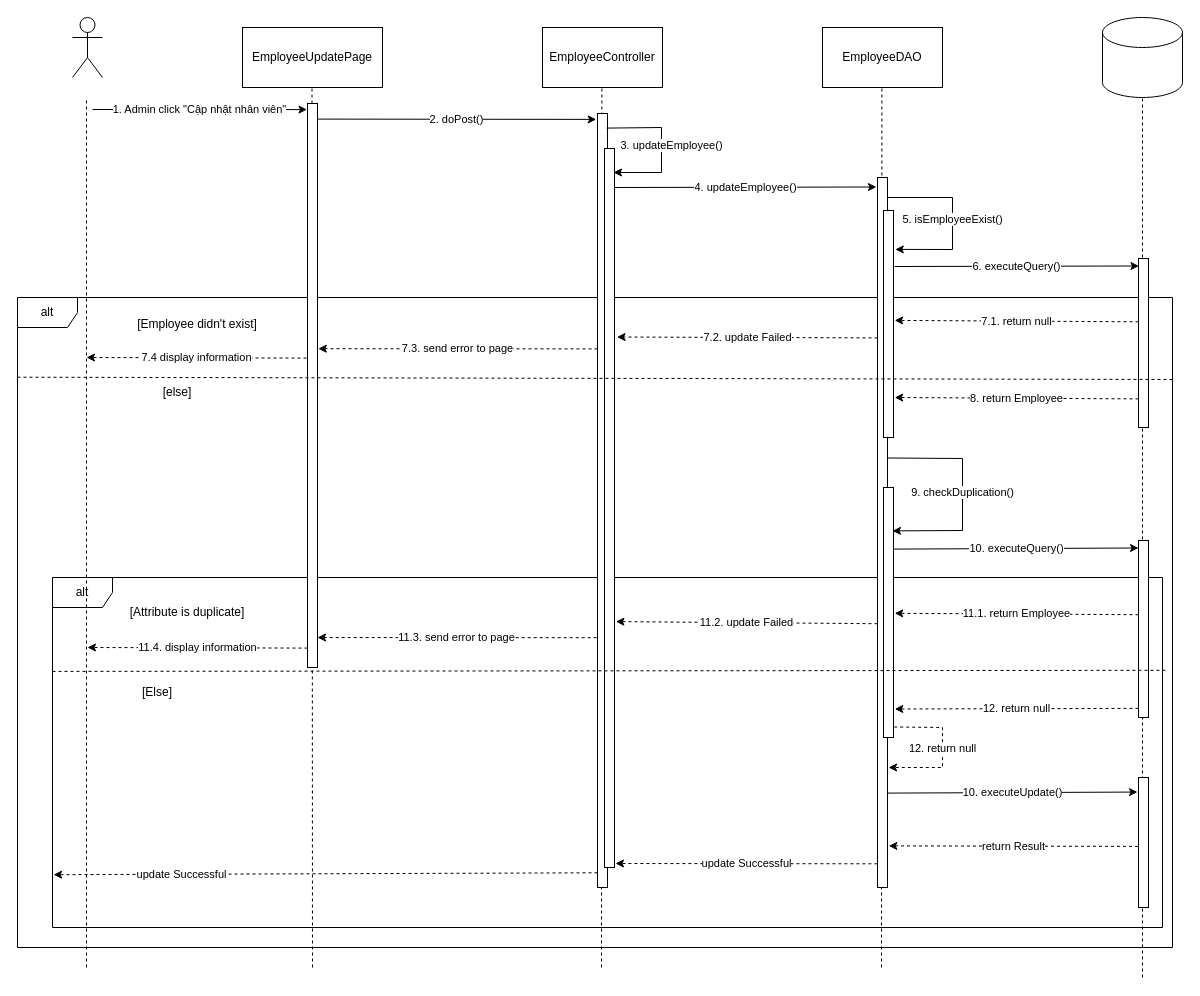
Image size: 1200x996. Some labels were removed from this diagram. Each missing label, with the box of its shape:
Admin: (72, 16, 102, 78)
DB: (1102, 16, 1182, 98)
